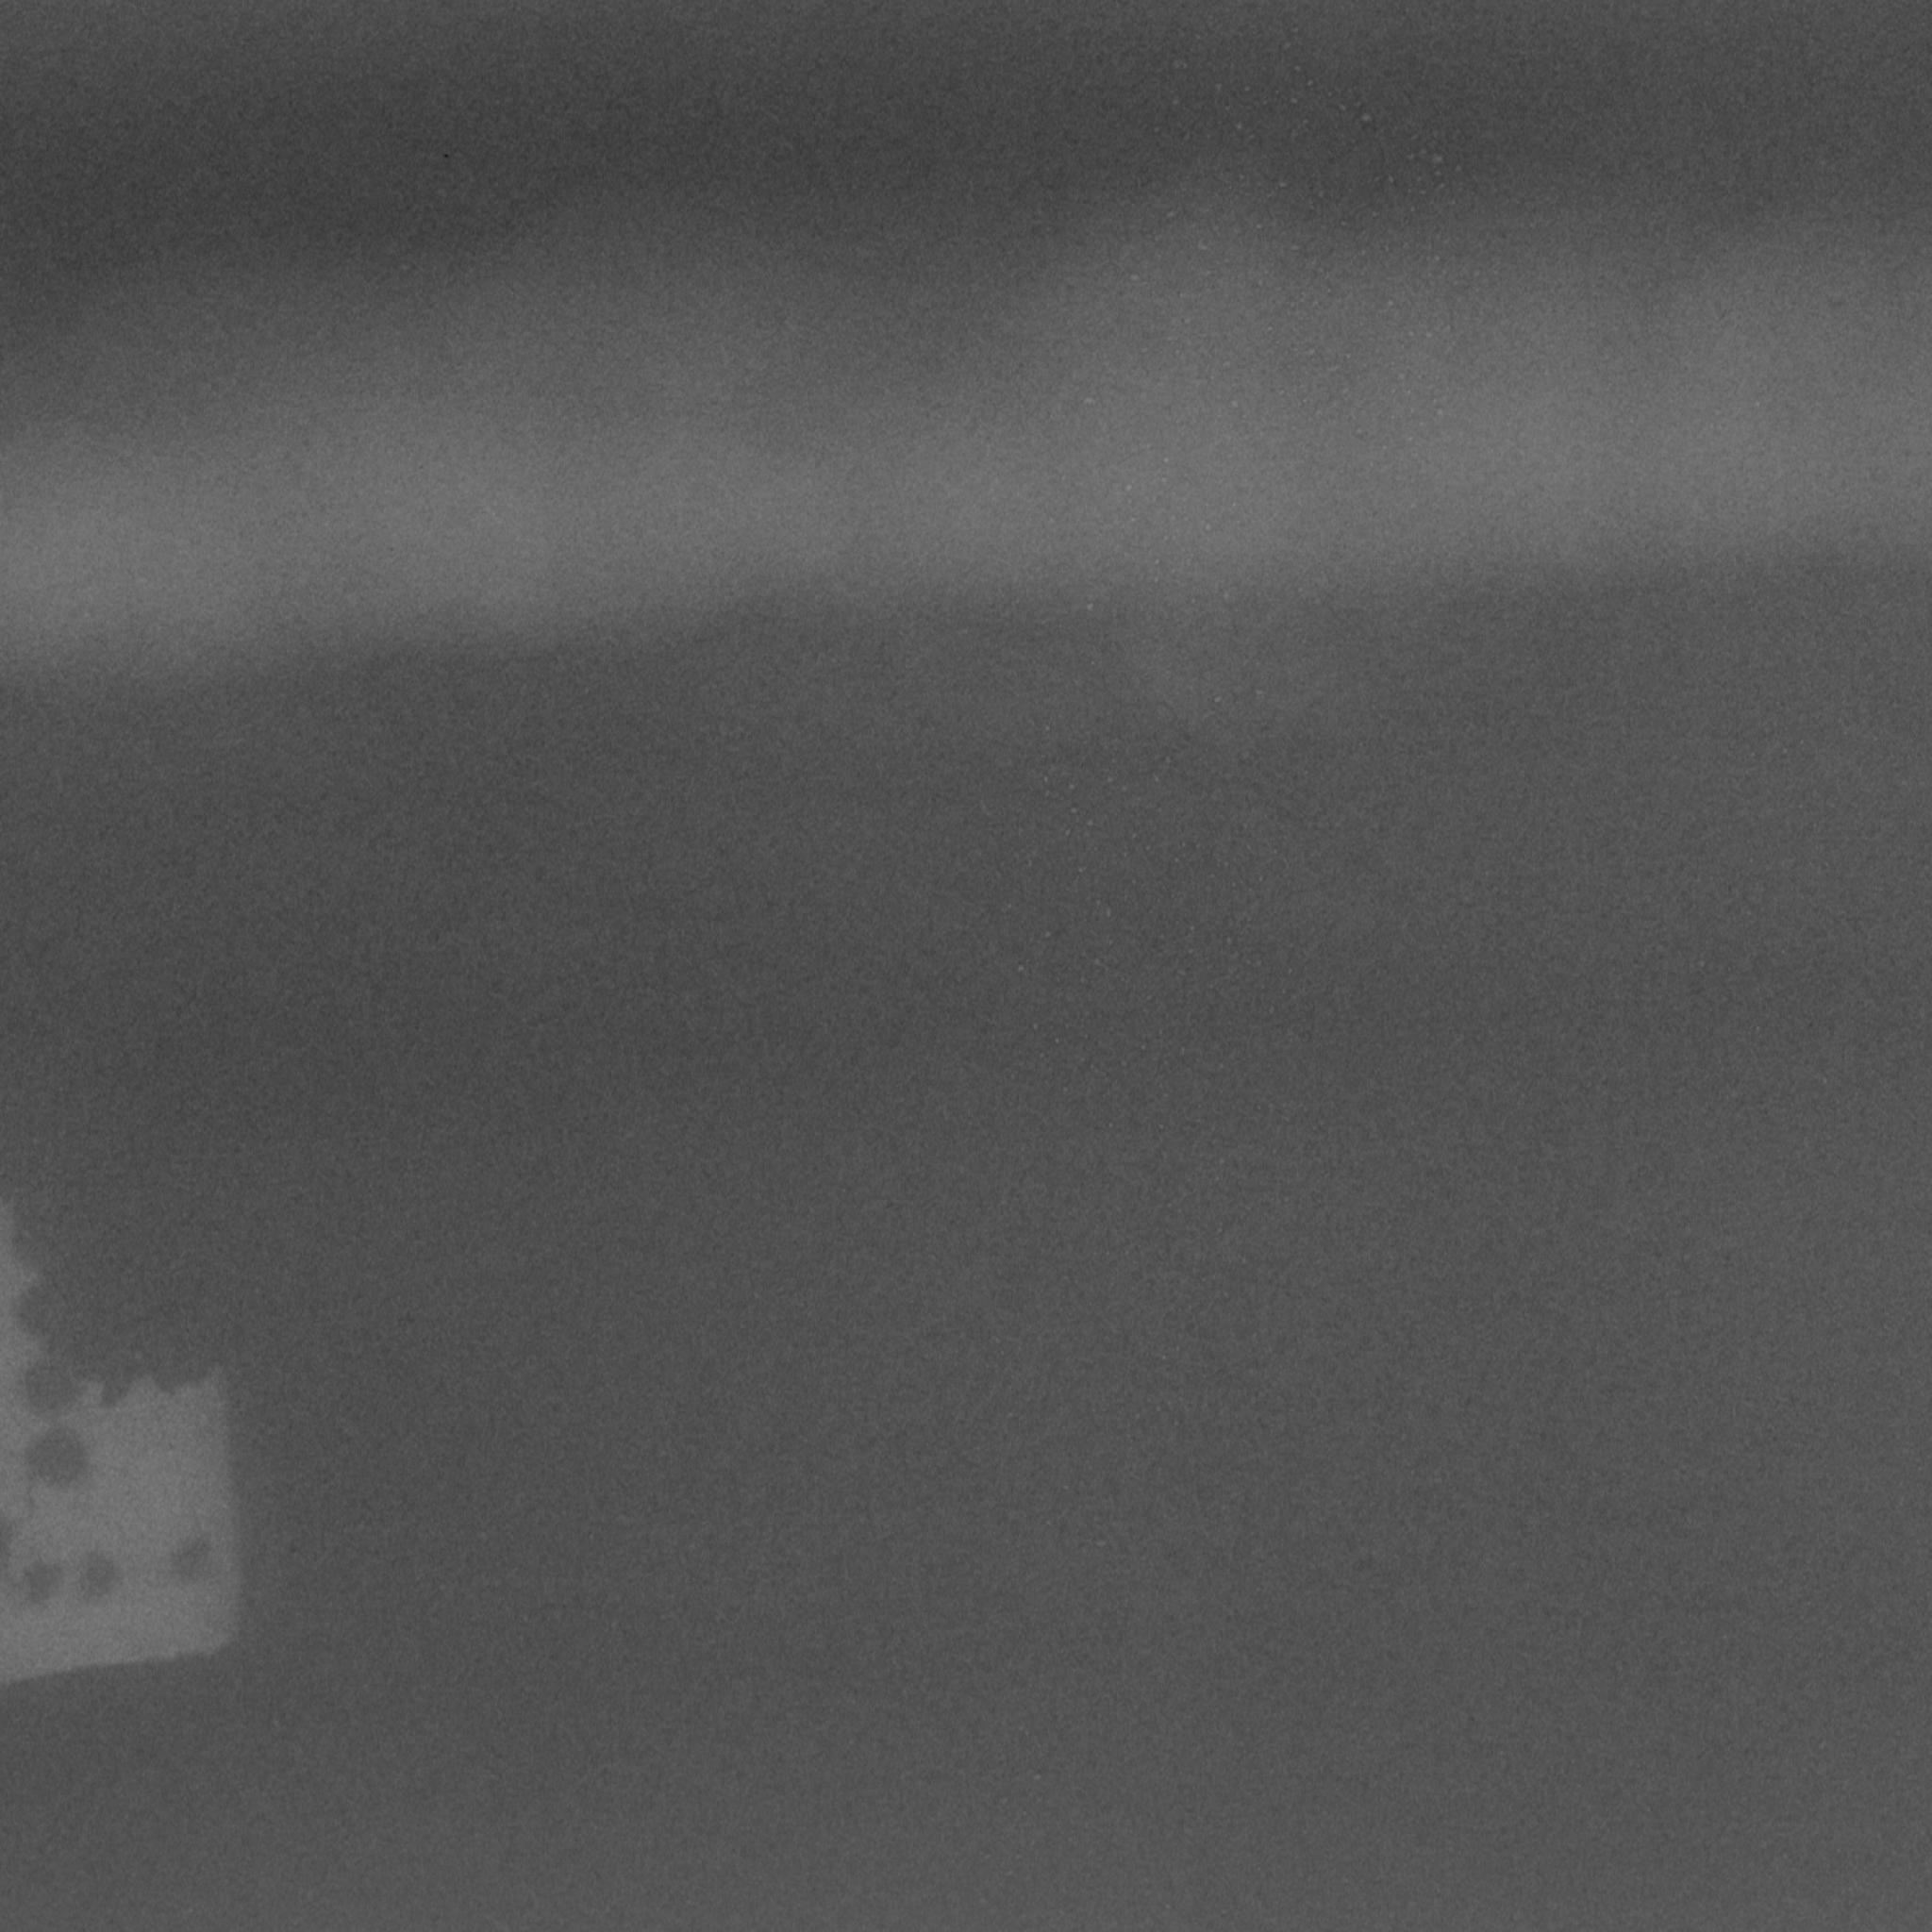PO: (435, 142, 458, 168)
